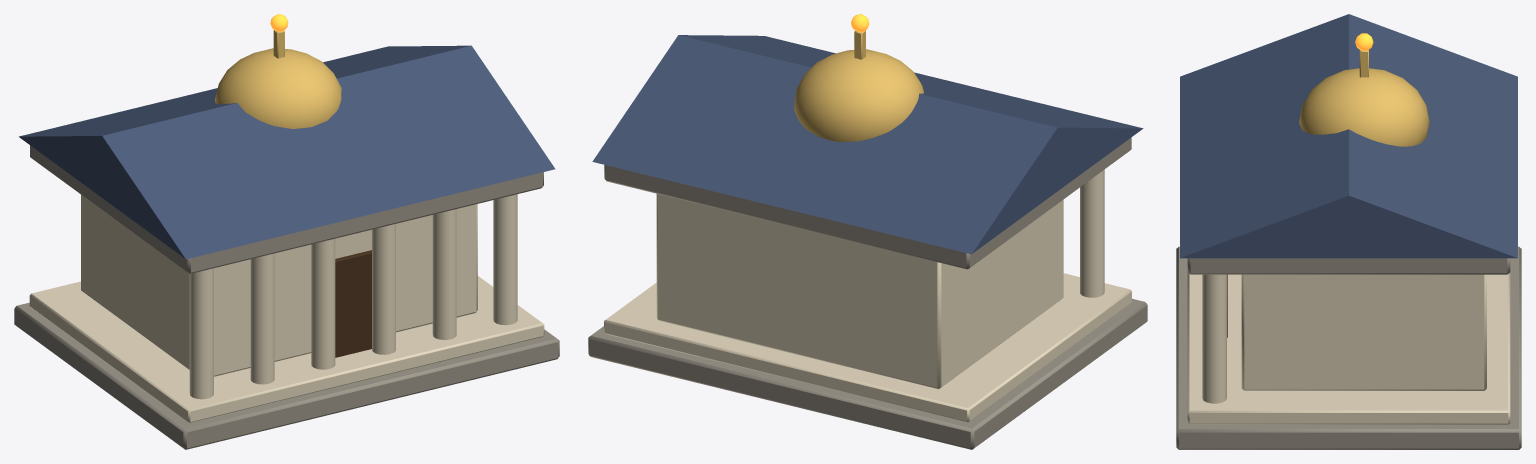
File: temple.glb
3 views of the same model, side by side, from view 1: azimuth 30°, elevation 25°; view 2: azimuth 150°, elevation 25°; view 3: azimuth 270°, elevation 25° (orthographic). The views are drawn at different scales.
Visible parts, largest first — view 1: building; view 2: building; view 3: building.
Boxes of the visible parts, x1,y1,x2,y2 form: building: (14, 14, 559, 449); building: (588, 14, 1147, 449); building: (1176, 14, 1521, 449).
Size of the model in its own units: 5.7 by 4.67 by 4.5.
